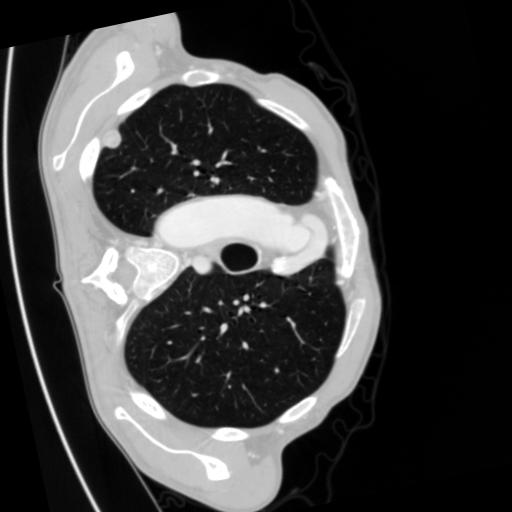nodule: (100, 128, 127, 155)
